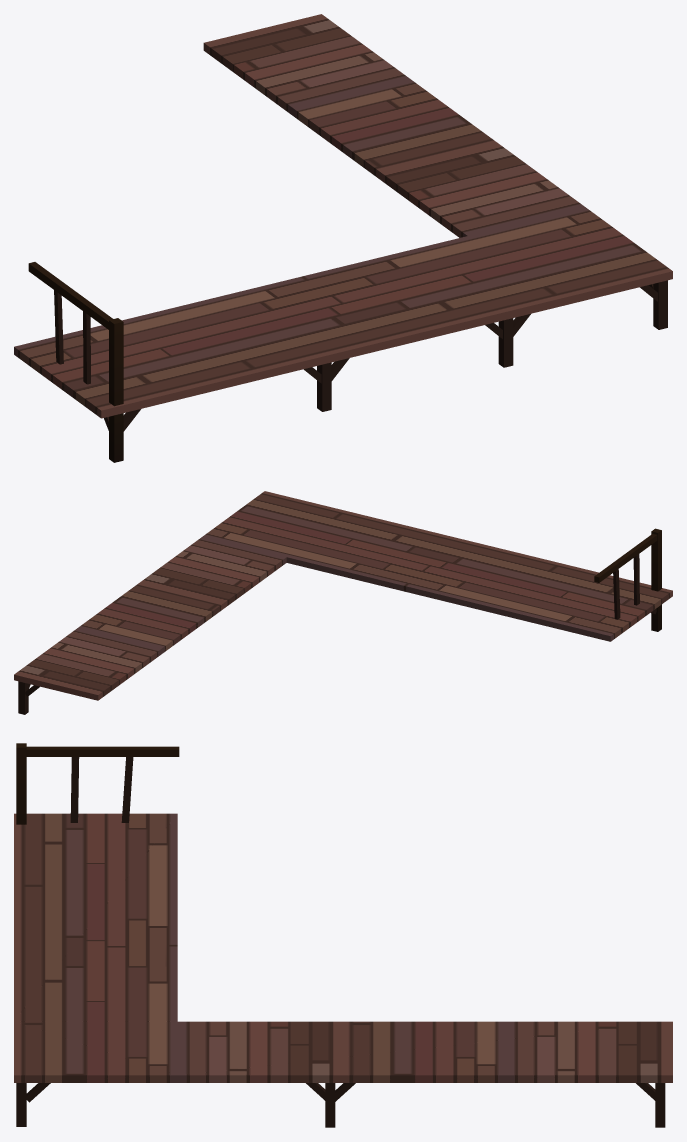
The model's file is Deck L.glb.
3 views of the same model, one above another, from view 1: azimuth 30°, elevation 25°; view 2: azimuth 150°, elevation 25°; view 3: azimuth 270°, elevation 25° (orthographic). The views are drawn at different scales.
Visible parts, largest first — view 1: Deck L; view 2: Deck L; view 3: Deck L.
Boxes of the visible parts, <box> form: Deck L: <box>14,14,672,462</box>; Deck L: <box>14,491,672,714</box>; Deck L: <box>14,743,672,1127</box>.
Size of what is drawn, in the model's own units: 7.56 by 1.75 by 8.05.
Materials: 2 (2 with a texture image).
